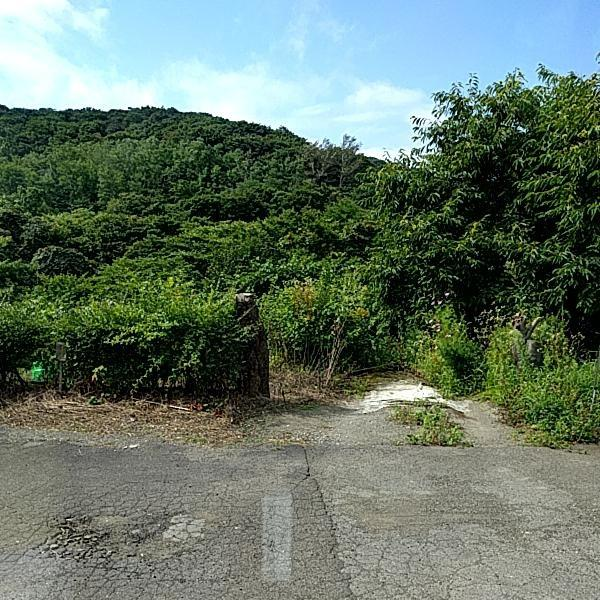pothole: (83, 508, 207, 561)
